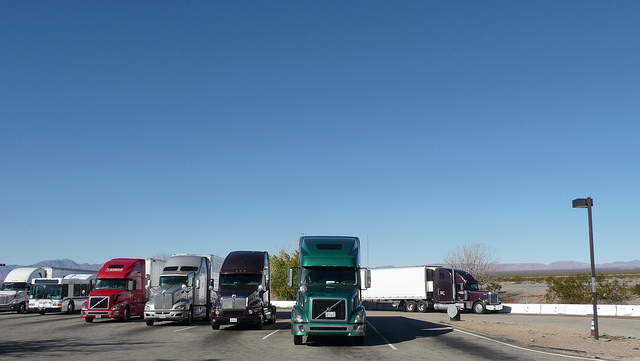Bus: (22, 277, 83, 320)
Truck: (285, 237, 377, 345), (372, 265, 501, 317), (211, 252, 275, 331), (156, 254, 209, 335), (85, 260, 144, 323)
